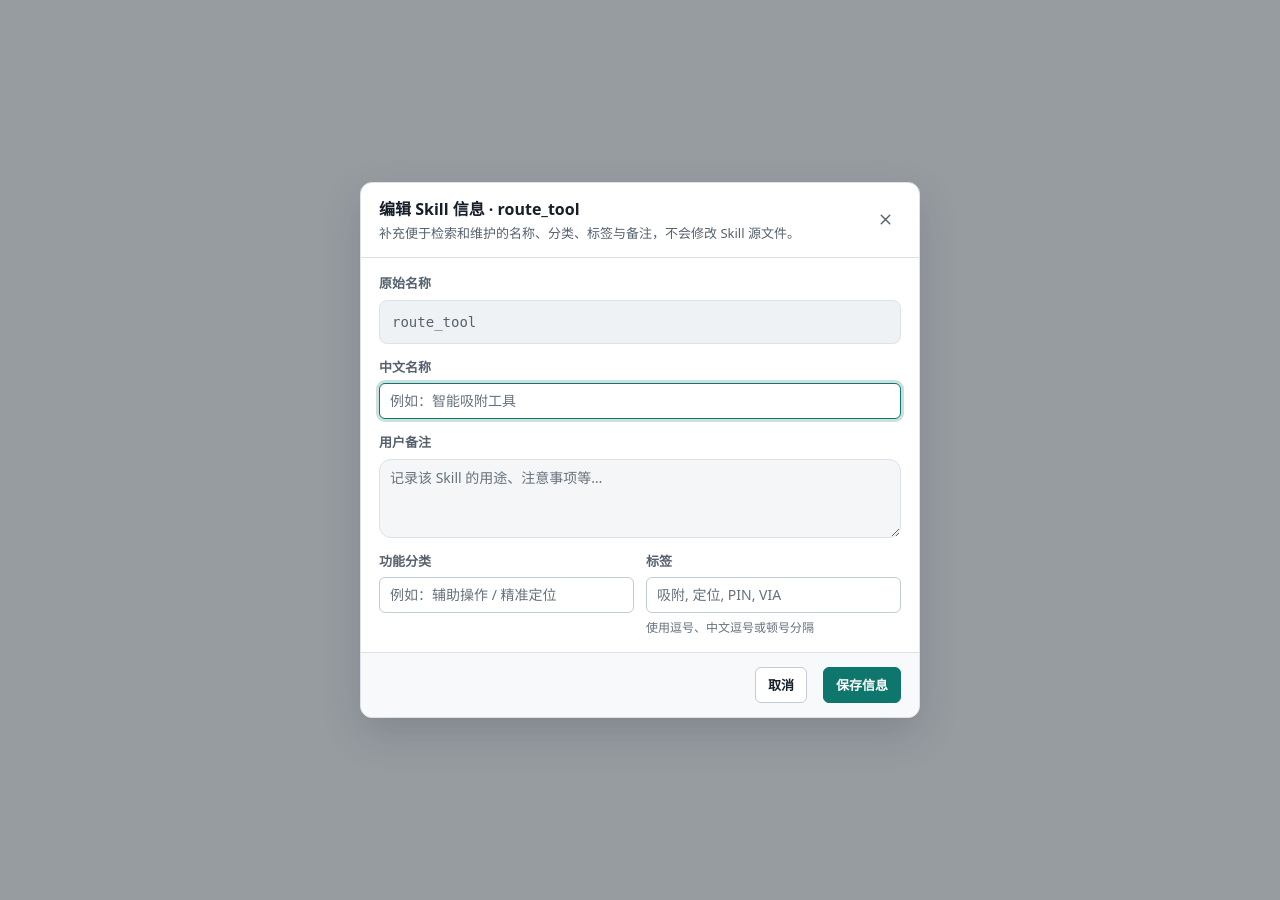
business dialog experience › keeps skill metadata errors announced and the form available for retry
This screenshot has width=1280, height=900.
Type "走线工具" into the field labelled "中文名称".
click(640, 401); type("走线工具")  # box [379,383,901,419]
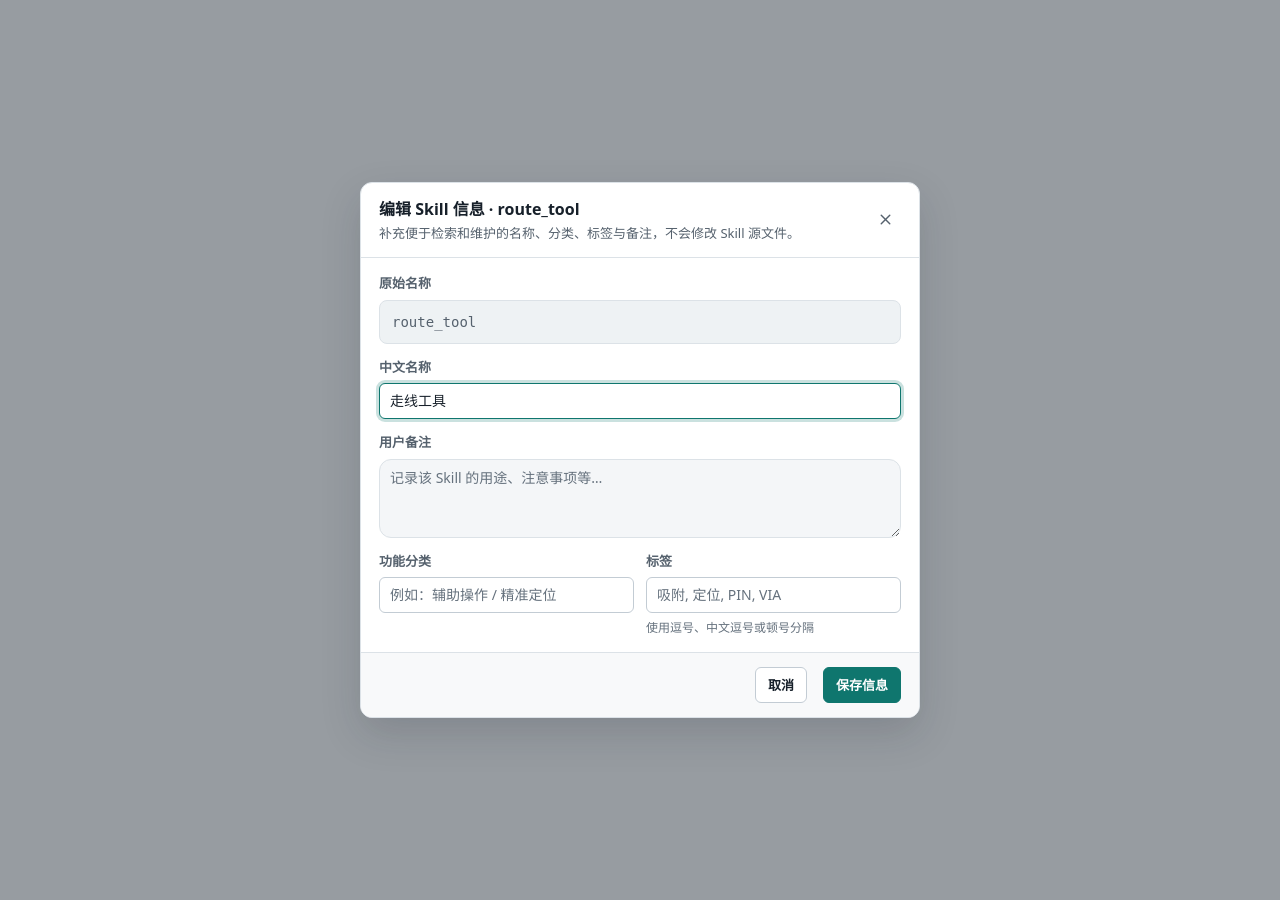
Click the button "保存信息".
click(862, 685)  # box [823,667,901,703]
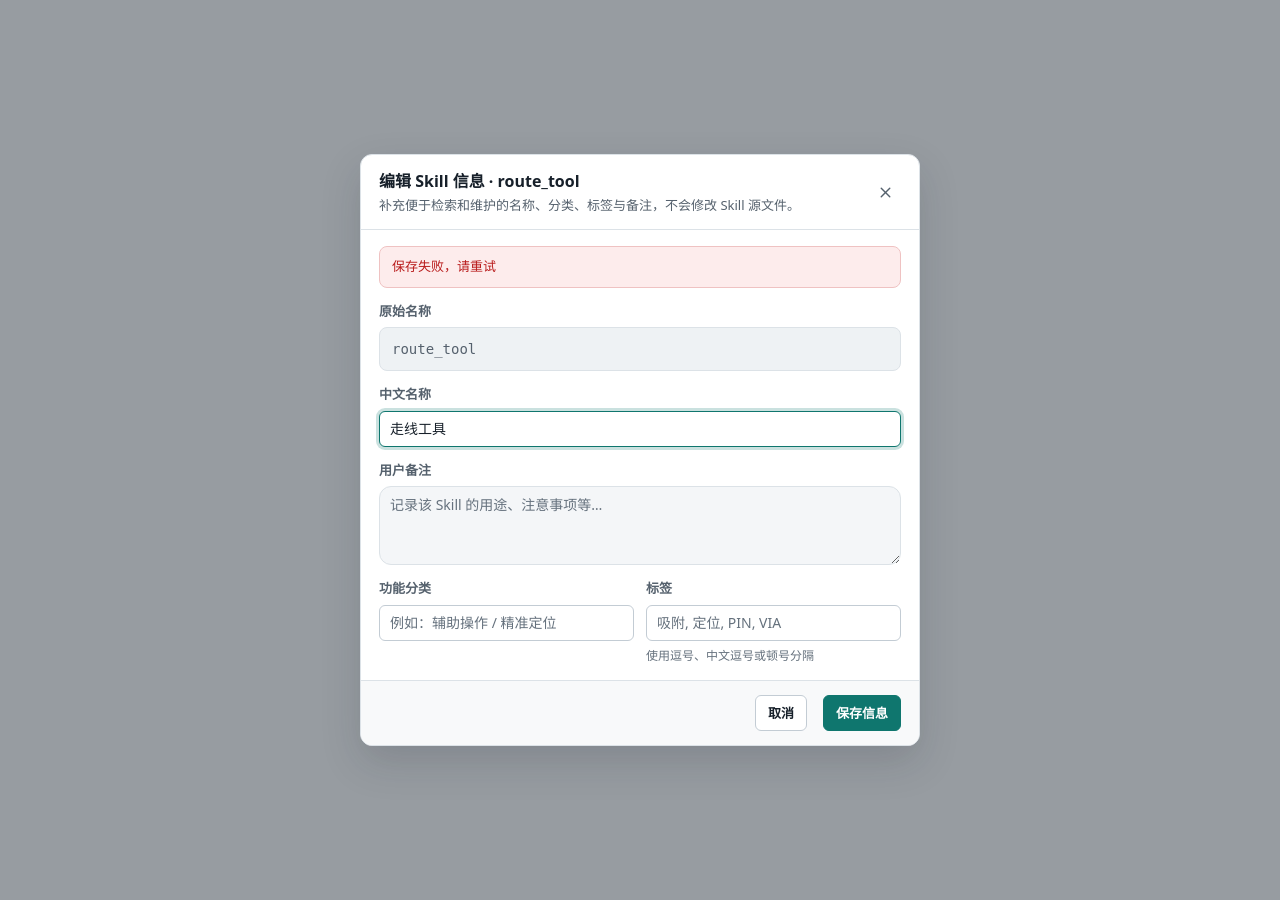
Expected: the button "保存信息" is enabled, [823,695,901,731]
Result: the message reads "保存失败，请重试" at [392,257,496,275]
